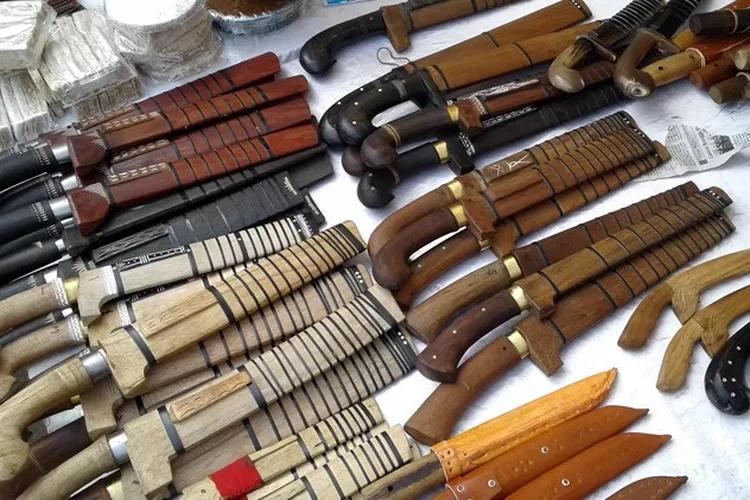facao: (0, 224, 370, 470), (14, 292, 395, 500), (402, 208, 734, 421), (412, 178, 729, 393), (342, 52, 686, 214), (405, 185, 698, 348), (399, 139, 695, 292), (374, 105, 642, 258), (345, 361, 632, 500), (0, 51, 262, 171), (362, 60, 642, 171)
